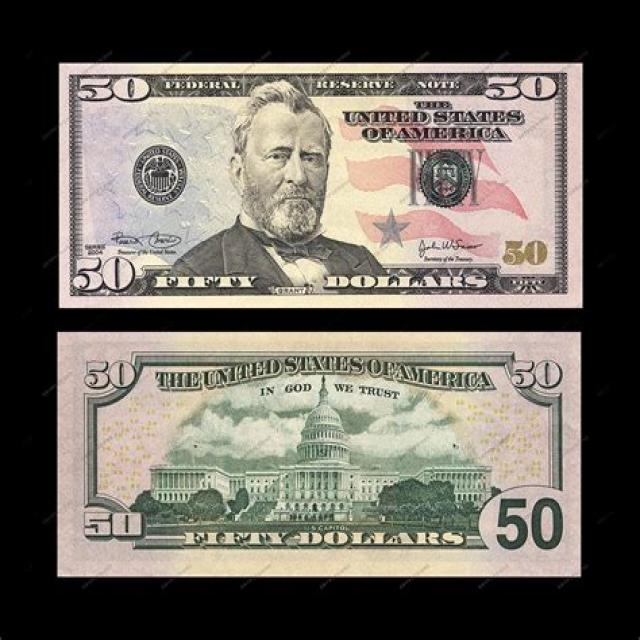Fifty: (60, 62, 582, 311), (59, 331, 580, 577)
